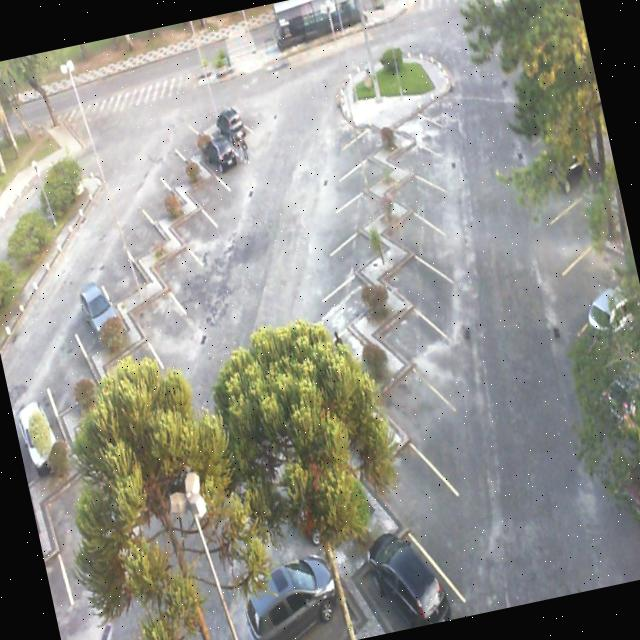empty: (364, 420, 471, 556), (368, 343, 462, 466), (374, 283, 459, 384), (32, 305, 102, 406), (370, 230, 450, 317), (300, 251, 382, 330), (122, 264, 188, 354), (378, 182, 452, 260), (86, 212, 151, 300), (318, 199, 388, 266), (147, 218, 205, 298), (313, 166, 384, 228), (161, 180, 220, 254), (382, 144, 448, 210), (113, 185, 171, 258), (387, 114, 449, 174), (331, 131, 395, 187), (132, 150, 184, 217), (183, 150, 237, 214), (393, 89, 452, 145), (164, 94, 214, 158), (150, 124, 200, 186), (328, 101, 388, 152)
occupied: (348, 488, 456, 635), (245, 525, 368, 640), (57, 250, 128, 345), (192, 114, 245, 178), (208, 92, 254, 152)
